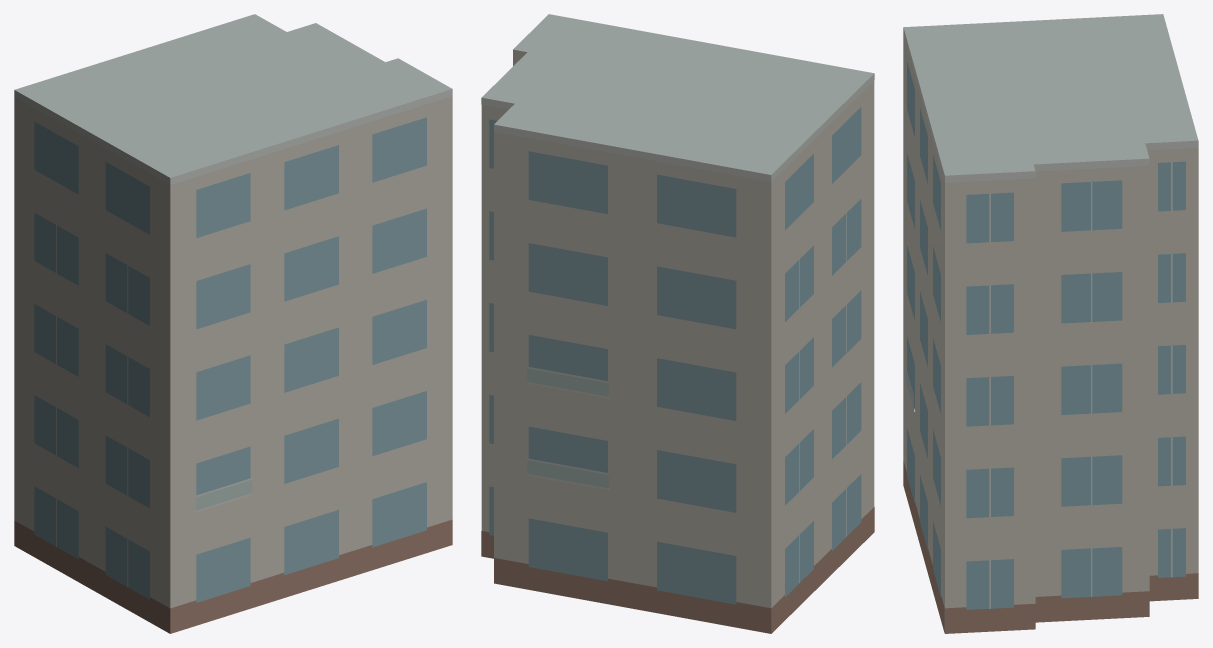
File: survey-upis-33039016.glb
The picture shows the model from 3 angles, left to right: view 1: azimuth 30°, elevation 25°; view 2: azimuth 150°, elevation 25°; view 3: azimuth 270°, elevation 25°; orthographic projection.
Parts seen in each view (by area): view 1: survey-upis-33039016.tmp; view 2: survey-upis-33039016.tmp; view 3: survey-upis-33039016.tmp.
Boxes of the visible parts, <box> form: survey-upis-33039016.tmp: <box>14,14,452,633</box>; survey-upis-33039016.tmp: <box>481,14,874,633</box>; survey-upis-33039016.tmp: <box>903,14,1198,633</box>.
Size of the model in its own units: 11.97 by 15.8 by 9.23.
